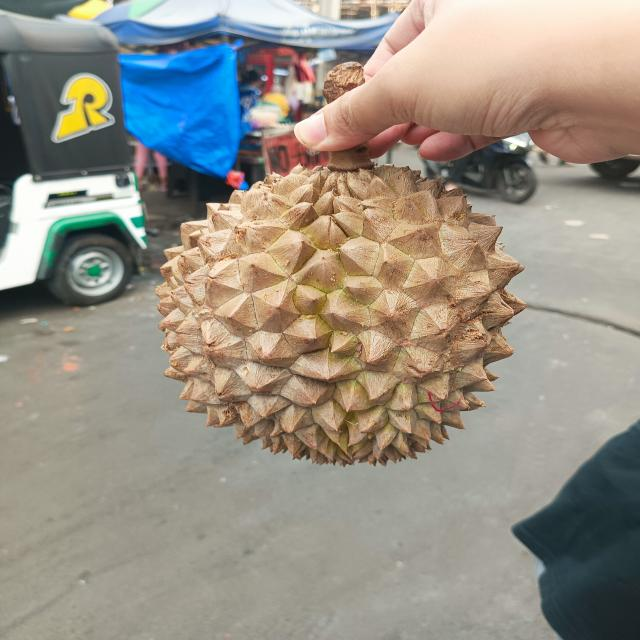mature: (151, 159, 528, 465)
